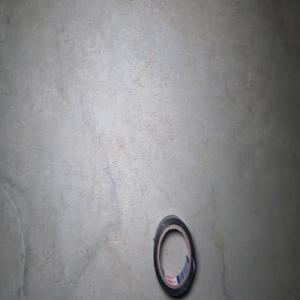Tape: (152, 214, 196, 298)
